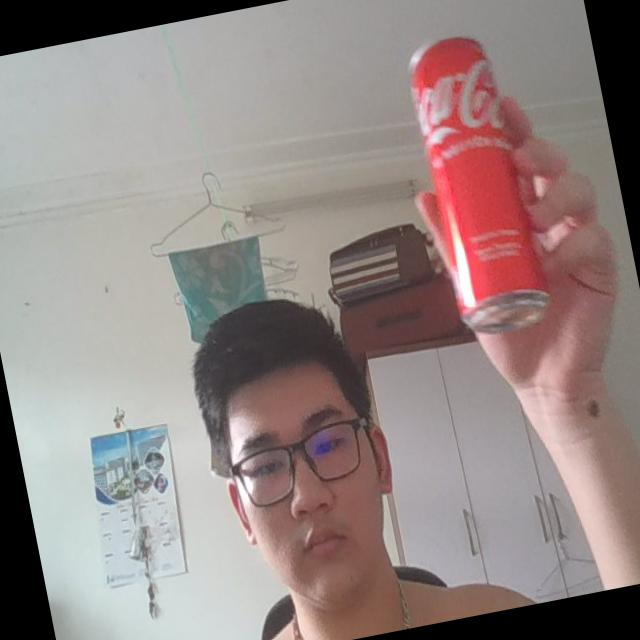Coca Cola: (399, 20, 556, 338)
